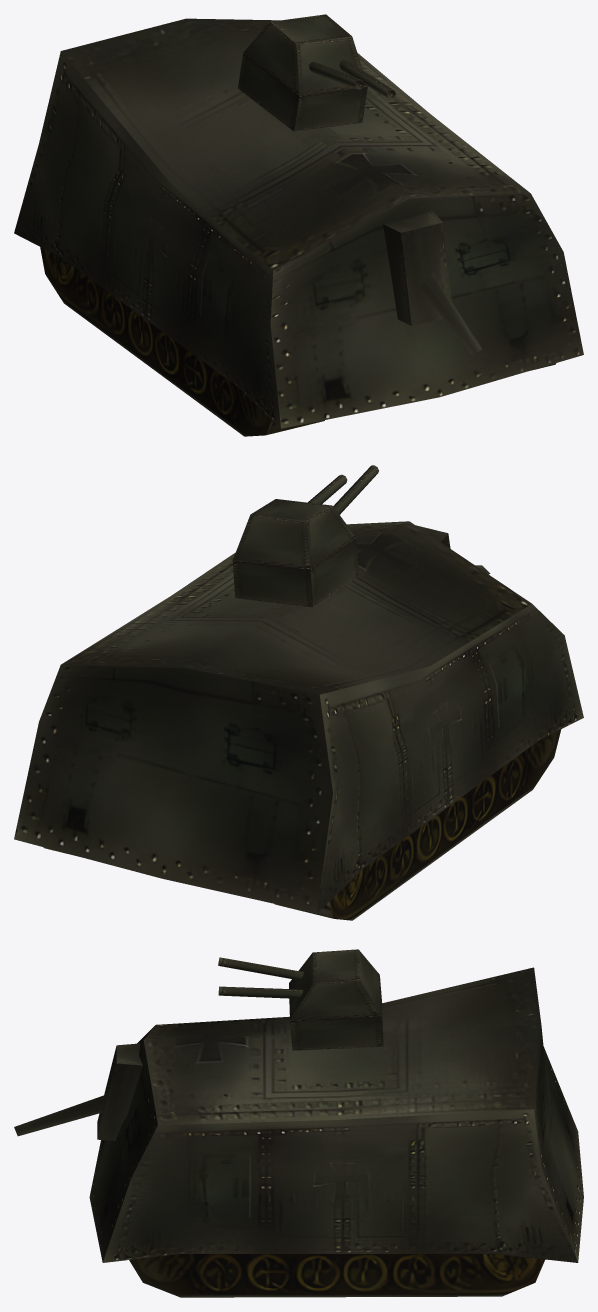
Rendered from germantankburn.gltf.
3 renders of one model, top to bottom at view 1: azimuth 30°, elevation 25°; view 2: azimuth 150°, elevation 25°; view 3: azimuth 270°, elevation 25°, orthographic. The views are drawn at different scales.
Parts seen in each view (by area): view 1: germantankburn_atomic0; view 2: germantankburn_atomic0; view 3: germantankburn_atomic0.
Part boxes in pixels (x1,y1,x2,y2): germantankburn_atomic0: [14, 14, 583, 436]; germantankburn_atomic0: [14, 465, 583, 920]; germantankburn_atomic0: [14, 949, 583, 1297].
Bounding box in the file's own units: 17.2 × 16.87 × 31.49.
2 materials, 2 textured.
